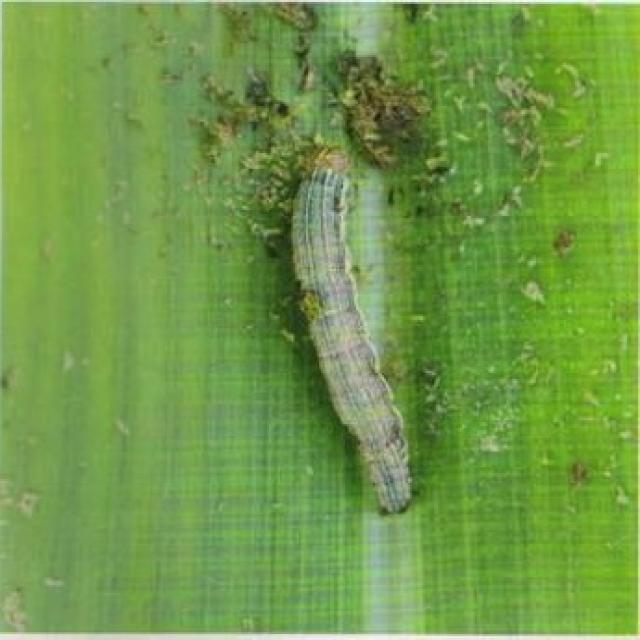army worm: (263, 126, 426, 520)
